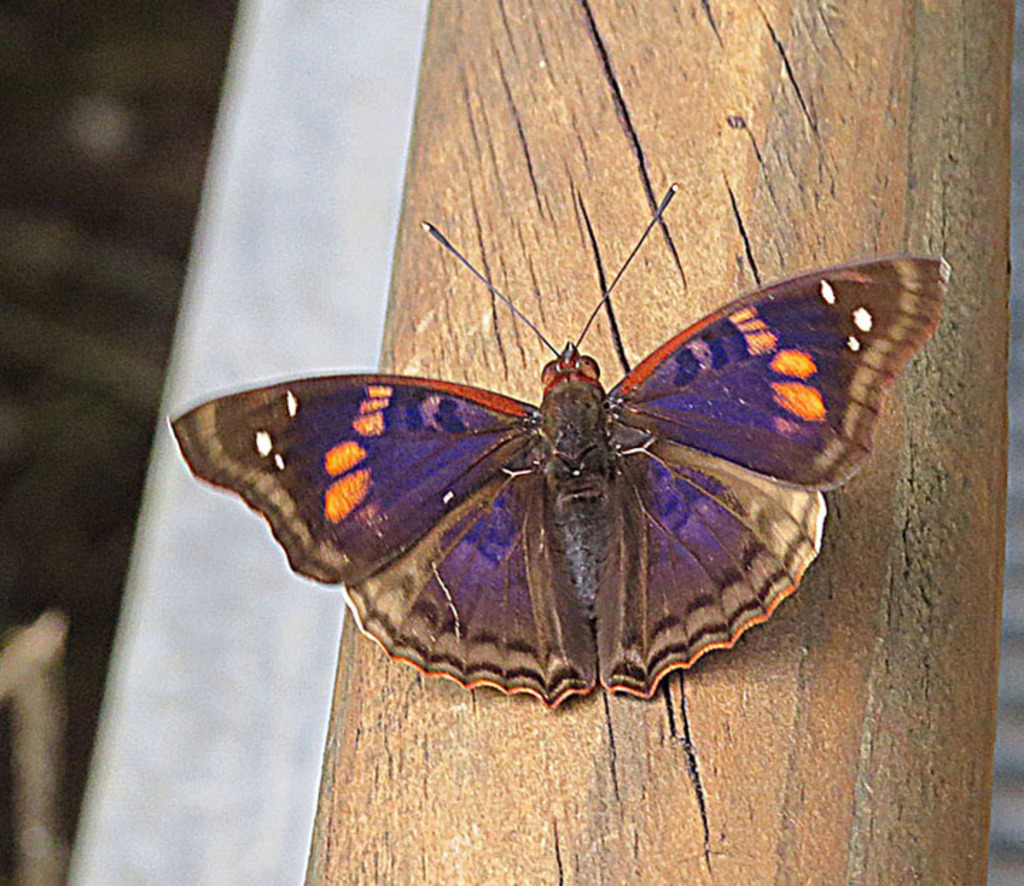Butterfly: (154, 297, 936, 703)
